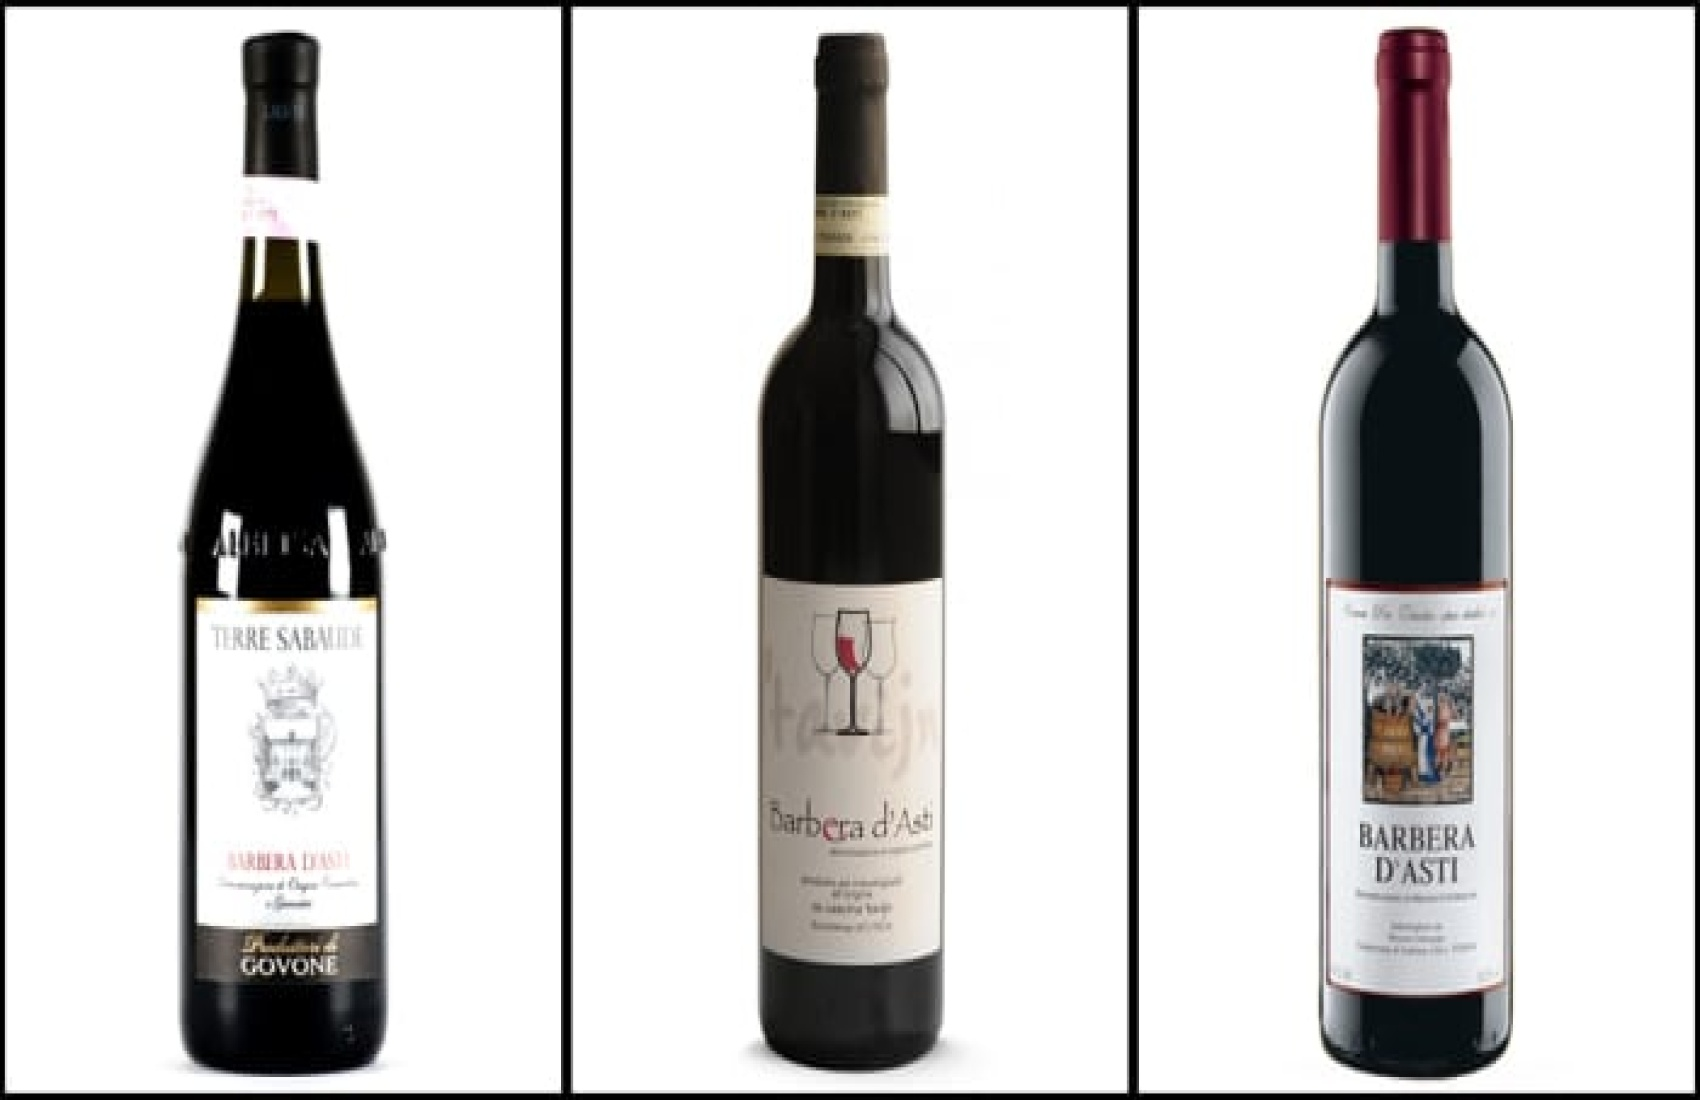wine: (201, 43, 392, 1064), (756, 33, 945, 1055), (1323, 38, 1513, 1060)
